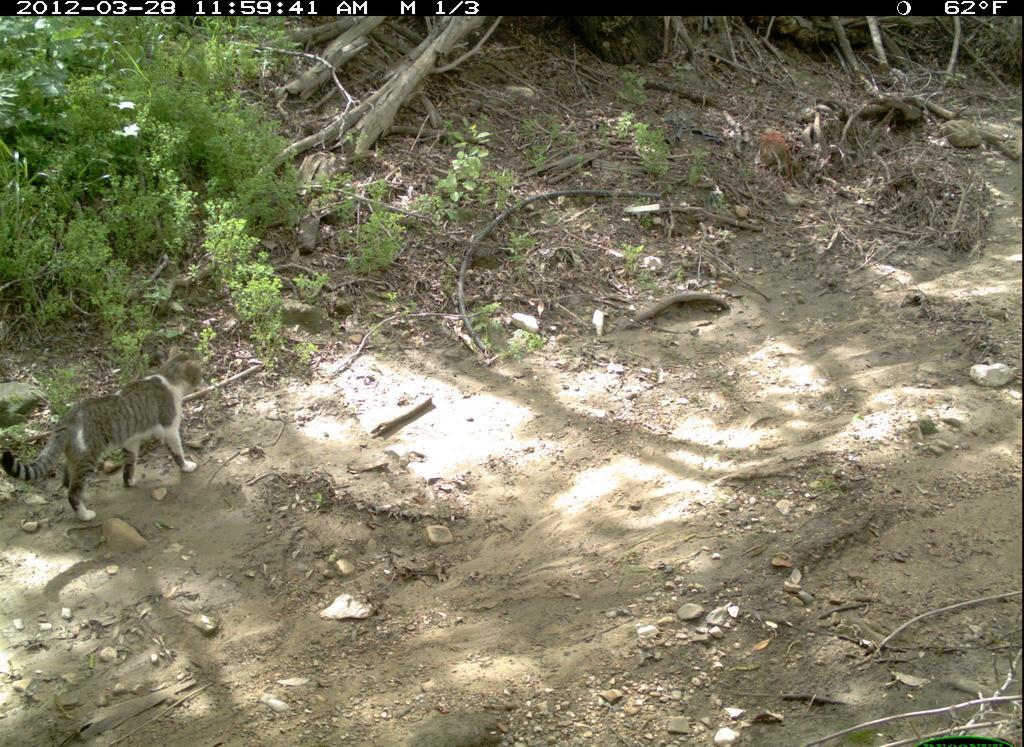cat: (6, 350, 212, 524)
